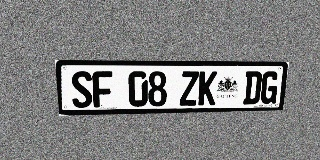0: (128, 71, 148, 107)
8: (148, 71, 167, 106)
D: (243, 71, 263, 104)
F: (92, 71, 113, 108)
G: (259, 71, 280, 104)
K: (198, 71, 217, 105)
S: (70, 71, 93, 108)
Z: (179, 71, 199, 106)
